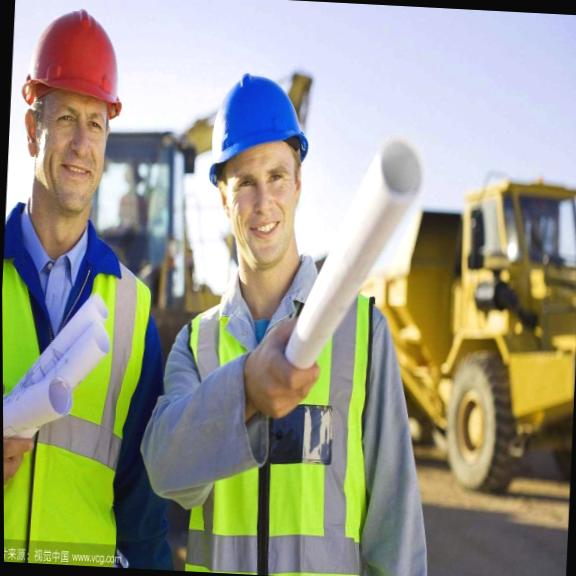safety_vest: (129, 242, 445, 576), (1, 192, 179, 566)
